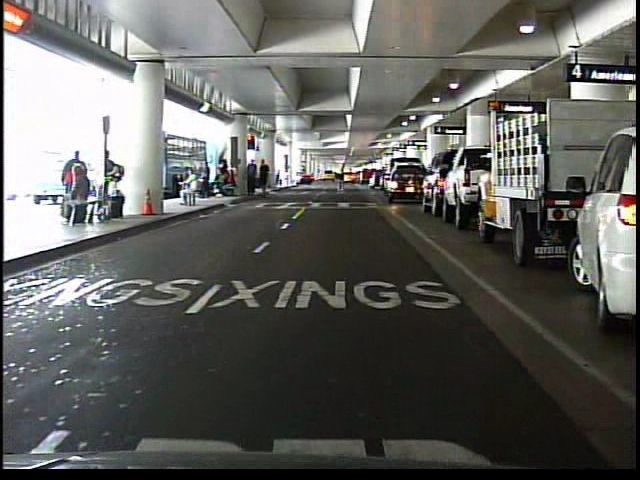person: (176, 170, 203, 209), (331, 161, 352, 193)
